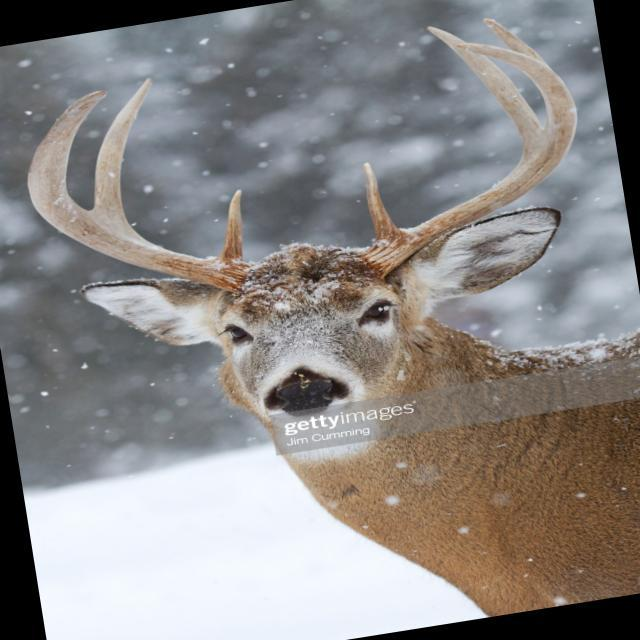L-F: (353, 43, 578, 279)
L-G1: (362, 162, 401, 240)
R-F: (27, 89, 252, 293)
R-G1: (217, 189, 243, 261)
R-G2: (93, 78, 153, 217)
